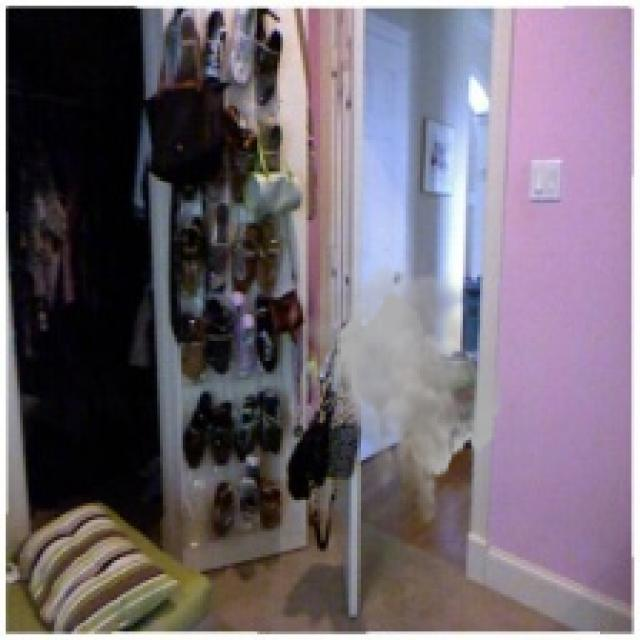smoke: (300, 257, 506, 529)
